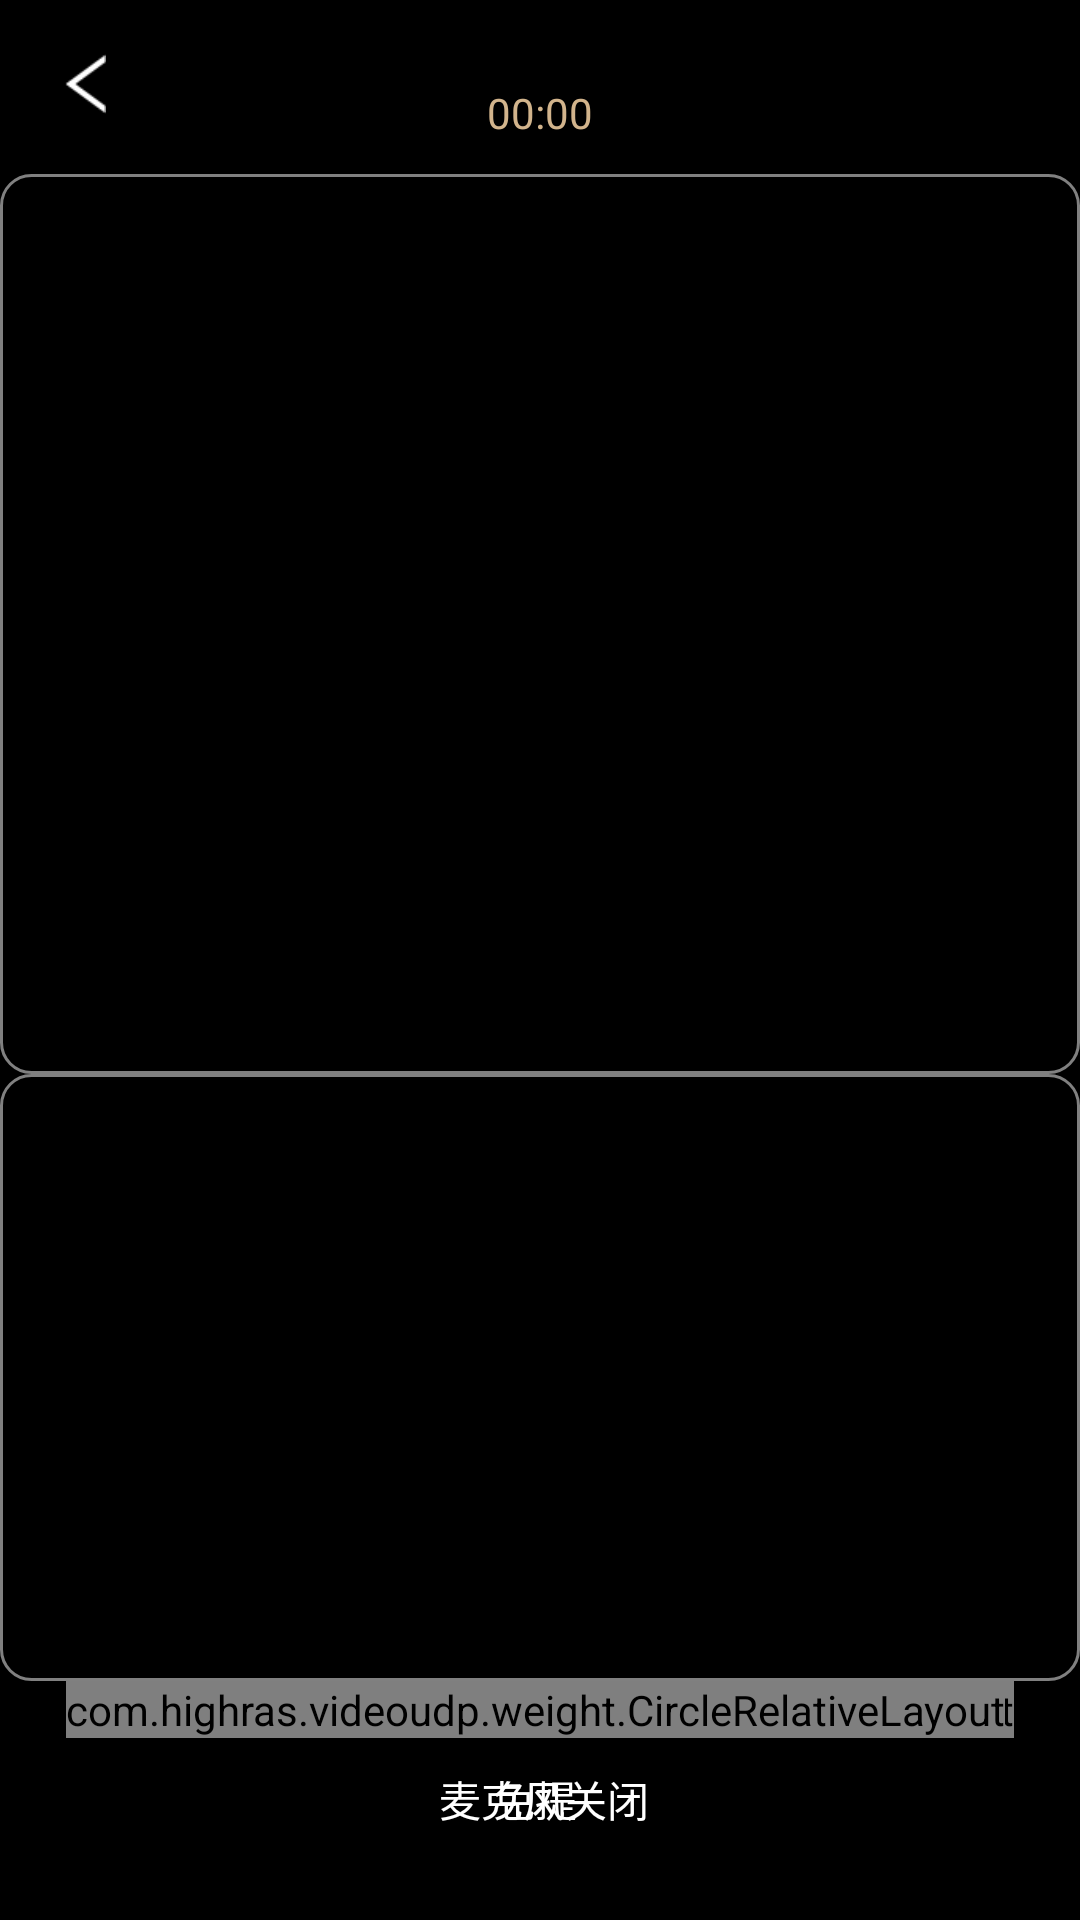

Where to tap for icons on this 1080*1920 app screen, as point (x, y):
back: point (86, 84)
